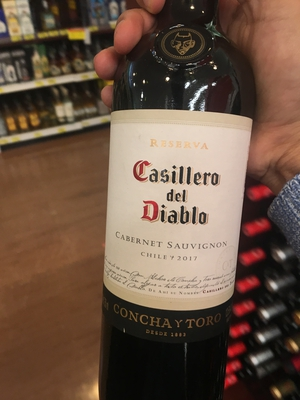casillero del diablo cabernet sauvignon: (91, 12, 262, 393)
